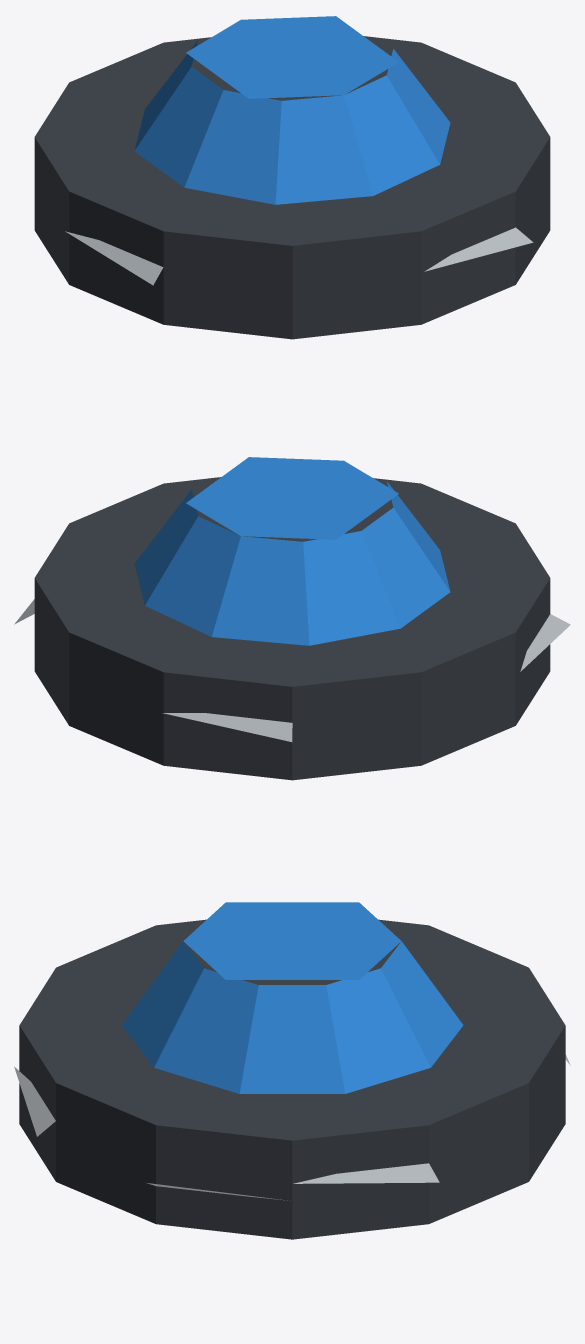
File: mine-electrifying.lod.glb
The picture shows the model from 3 angles, top to bottom: view 1: azimuth 30°, elevation 25°; view 2: azimuth 150°, elevation 25°; view 3: azimuth 270°, elevation 25°; orthographic projection. The views are drawn at different scales.
Parts seen in each view (by area): view 1: m; view 2: m; view 3: m.
Boxes of the visible parts, x1,y1,x2,y2 form: m: (34, 16, 550, 339); m: (14, 457, 570, 780); m: (14, 902, 570, 1239).
Bounding box in the file's own units: 0.0944 × 0.0519 × 0.0944.
